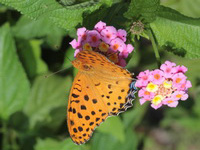Argyreus hyperbius: (38, 44, 140, 146)
butterfly: (38, 43, 140, 145)
